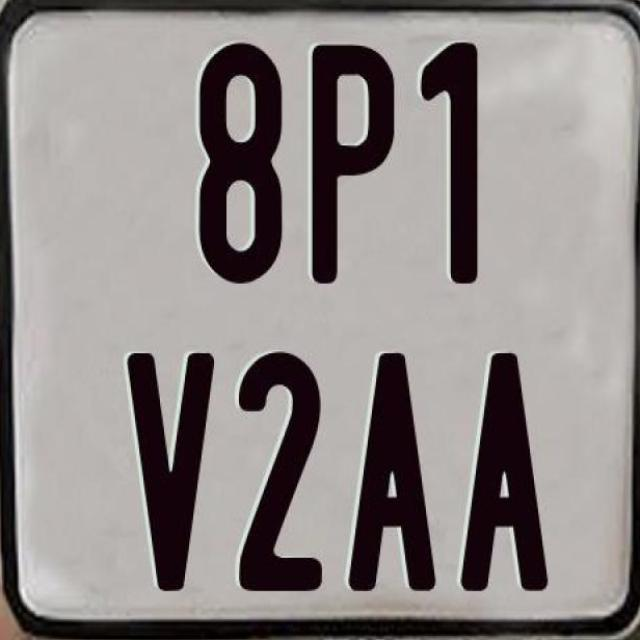license-plate: (0, 6, 640, 623)
